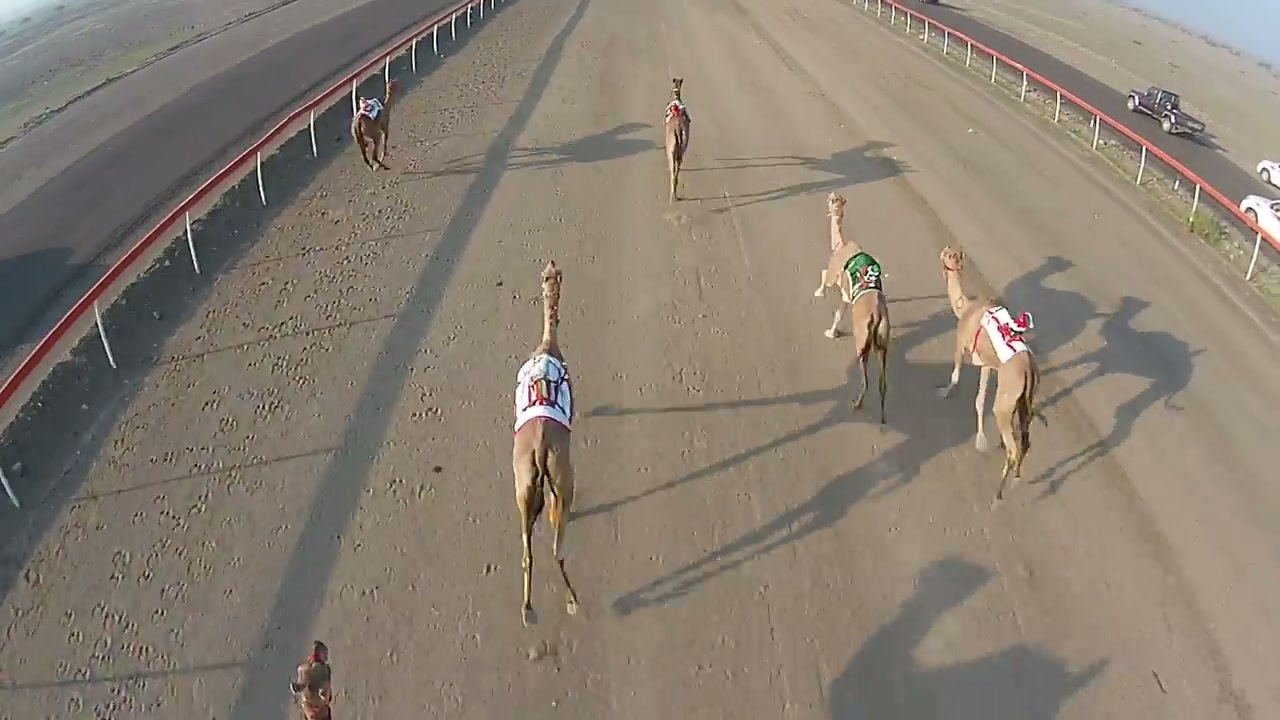animal_foot_print: (40, 186, 400, 711)
